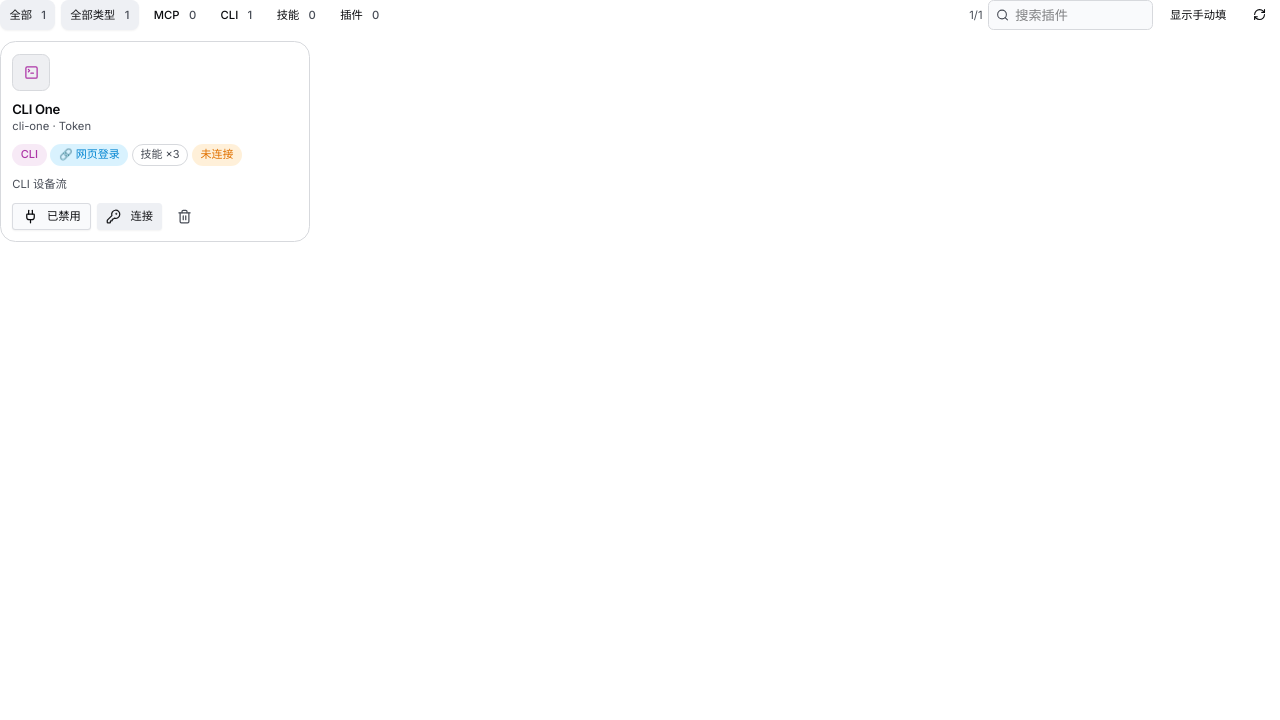
Test: CapabilityMarketPanel › 父组件直接卸载时使用已展示设备流的 generation 清理
Click the button "连接": point(130, 216) x1=97 y1=203 x2=162 y2=230
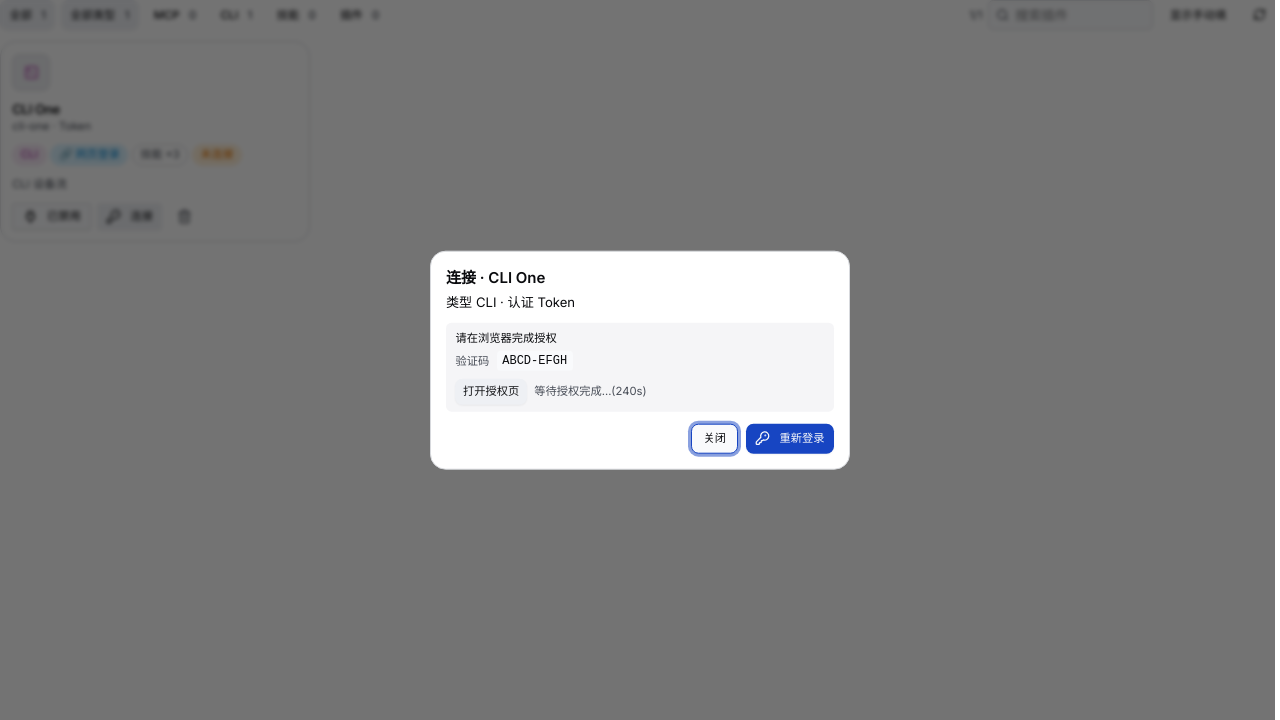
Check: the text "ABCD-EFGH" is shown, box x1=497 y1=351 x2=573 y2=371
